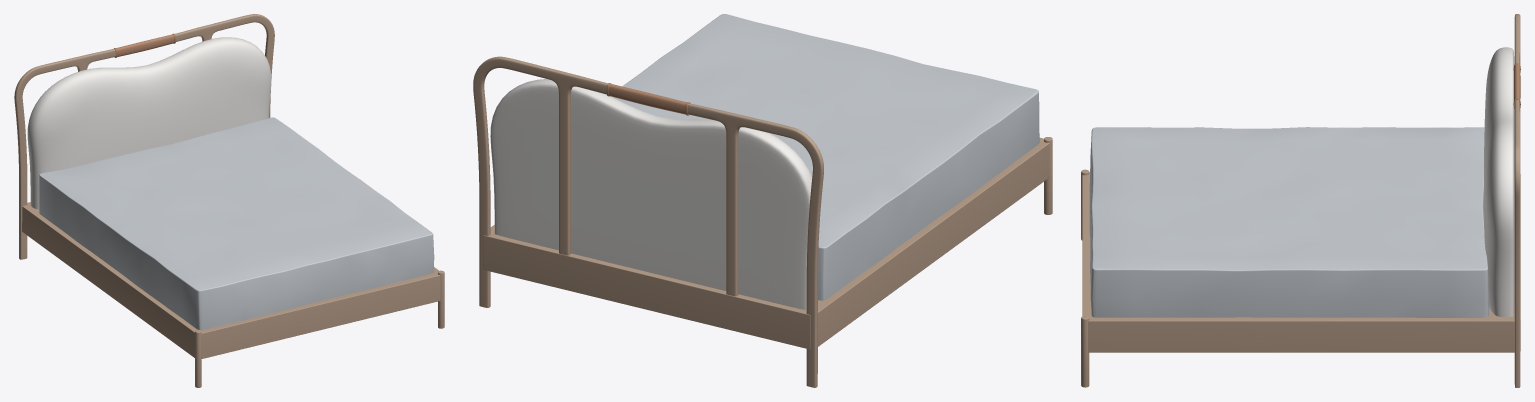
The model's file is pinotage-cama-queen.glb.
The picture shows the model from 3 angles, left to right: view 1: azimuth 30°, elevation 25°; view 2: azimuth 150°, elevation 25°; view 3: azimuth 270°, elevation 25°; orthographic projection. The views are drawn at different scales.
Bounding box in the file's own units: 1.8 × 1.25 × 2.14.
